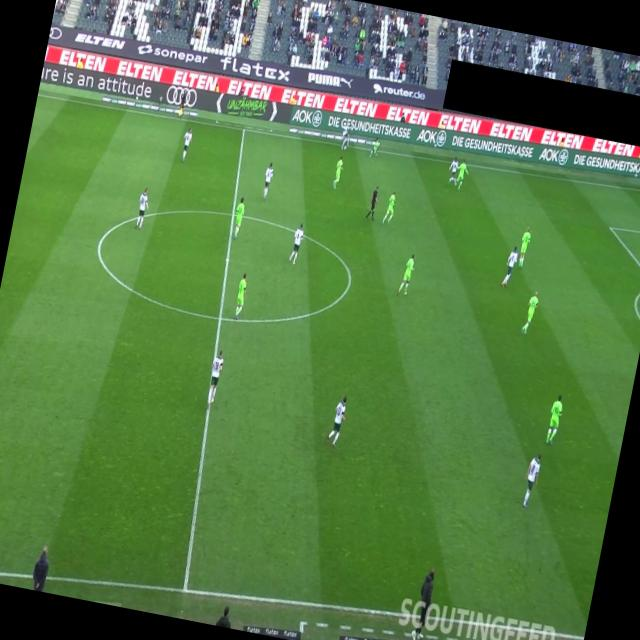ball: (343, 144, 348, 152)
player: (520, 451, 544, 510), (204, 348, 226, 407), (326, 394, 350, 448), (544, 392, 566, 446), (396, 252, 417, 298), (520, 290, 540, 336), (500, 244, 520, 289), (232, 272, 250, 321), (134, 186, 152, 230), (288, 222, 306, 266), (516, 225, 533, 270), (230, 196, 247, 240), (453, 157, 472, 192), (260, 161, 276, 201), (179, 126, 195, 164), (382, 189, 398, 226), (332, 154, 346, 190), (446, 155, 461, 186), (340, 120, 354, 152), (369, 138, 381, 158)
referee: (364, 184, 382, 223), (177, 88, 189, 120)
